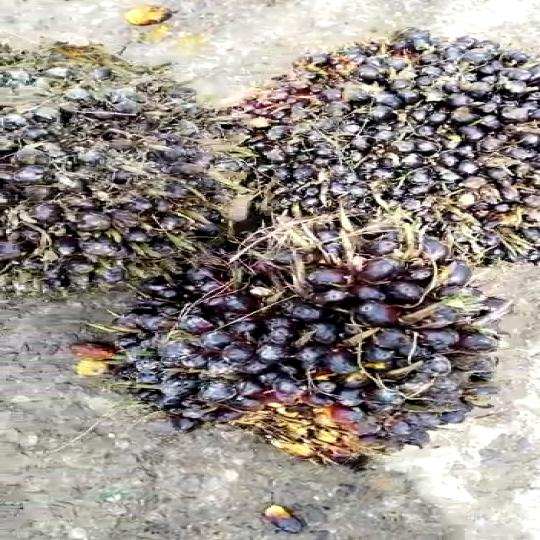mentah: (107, 207, 491, 484), (234, 19, 540, 257), (0, 43, 234, 287)
